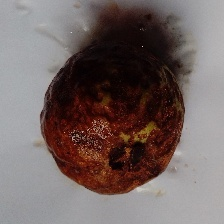guava: (62, 4, 206, 196)
